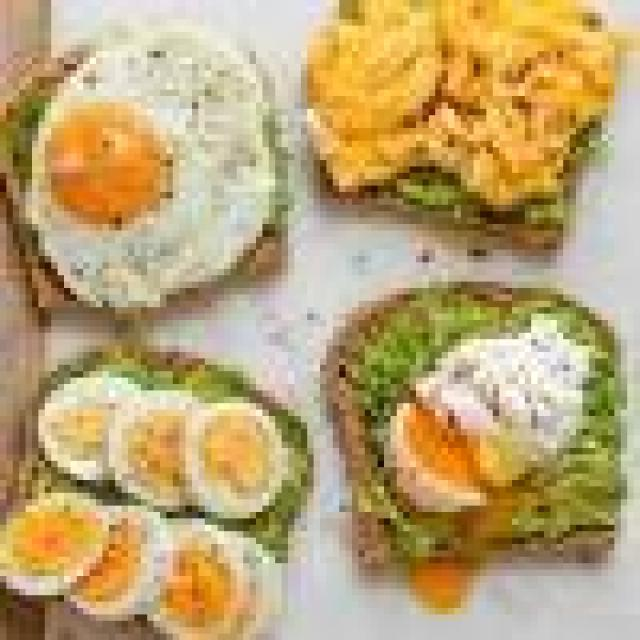Egg: (26, 31, 285, 306), (388, 315, 590, 514), (156, 520, 261, 640), (39, 375, 140, 481), (201, 401, 289, 518), (0, 496, 102, 596), (69, 506, 159, 618), (118, 391, 196, 509)
